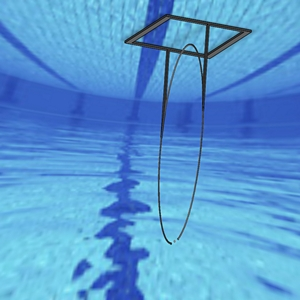circle: (124, 12, 253, 244)
